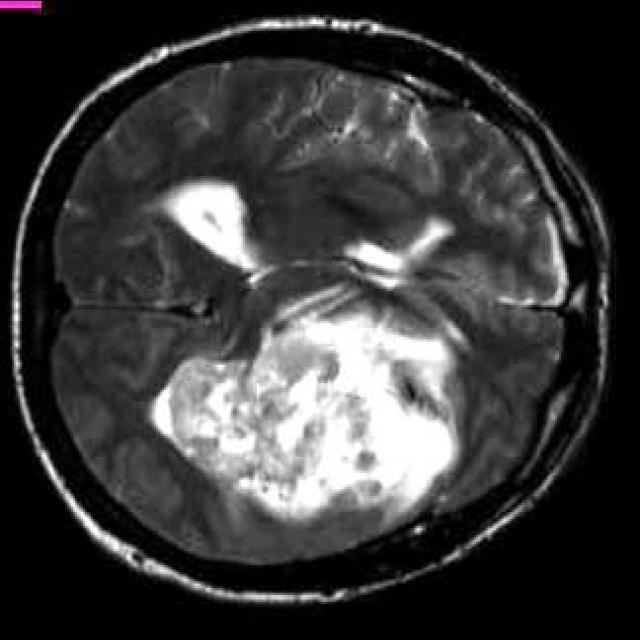tumor: (152, 180, 468, 553)
